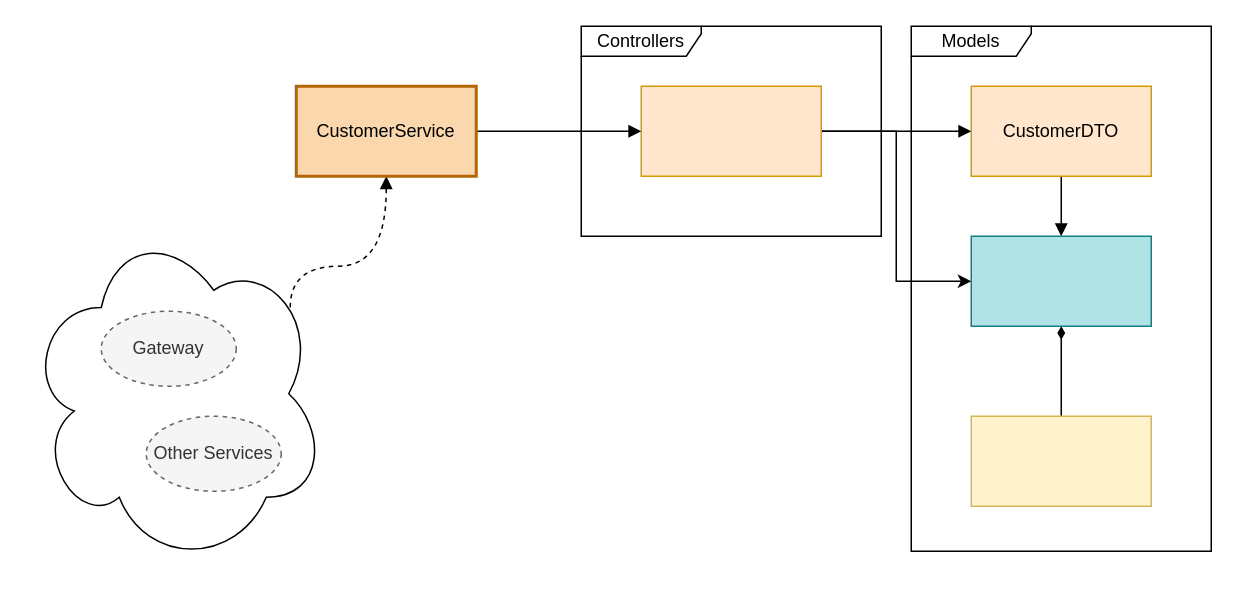
The diagram is 1238 pixels wide and 593 high, and some of its shapes have lost their labels. Here are the shapes that lost their labels. From the top down, the centre of each, then its label:
At (x=730, y=130): "CustomerController".
At (x=1060, y=280): "ShopBasketDTO".
At (x=1060, y=460): "ItemDTO".
